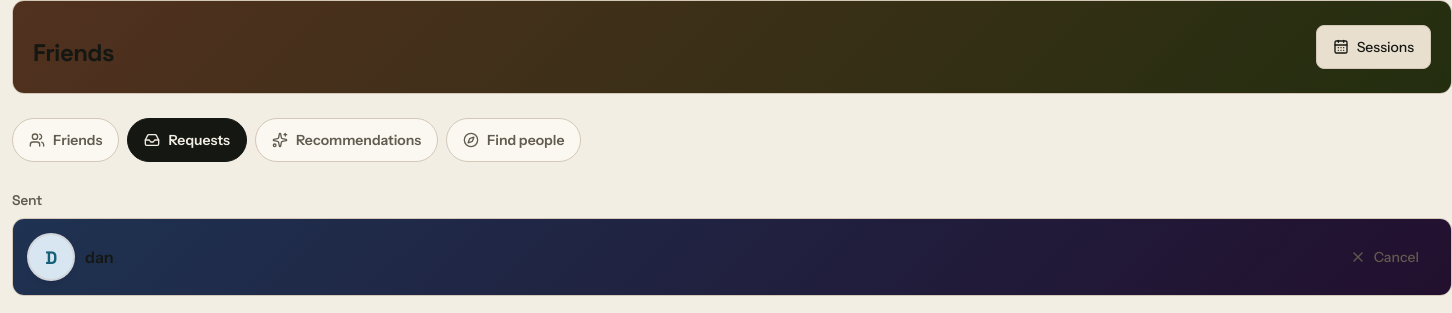
Friends page — requests tab › cancels a sent request and shows the empty state when nothing is left
The image size is (1452, 313).
Click the button with aria-label "Cancel request to dan" at x=1384, y=257, box [1334, 235, 1435, 279]
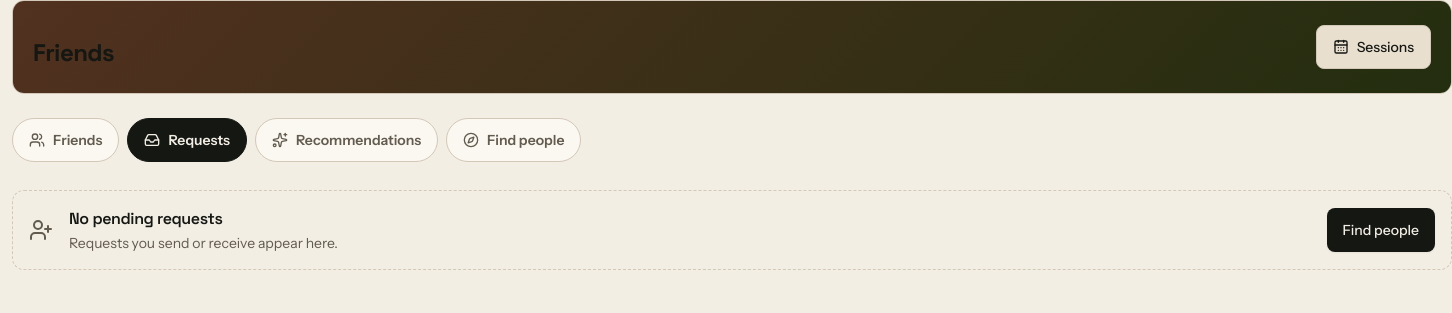
Result: the heading "No pending requests" is shown at [69, 208, 222, 229]
